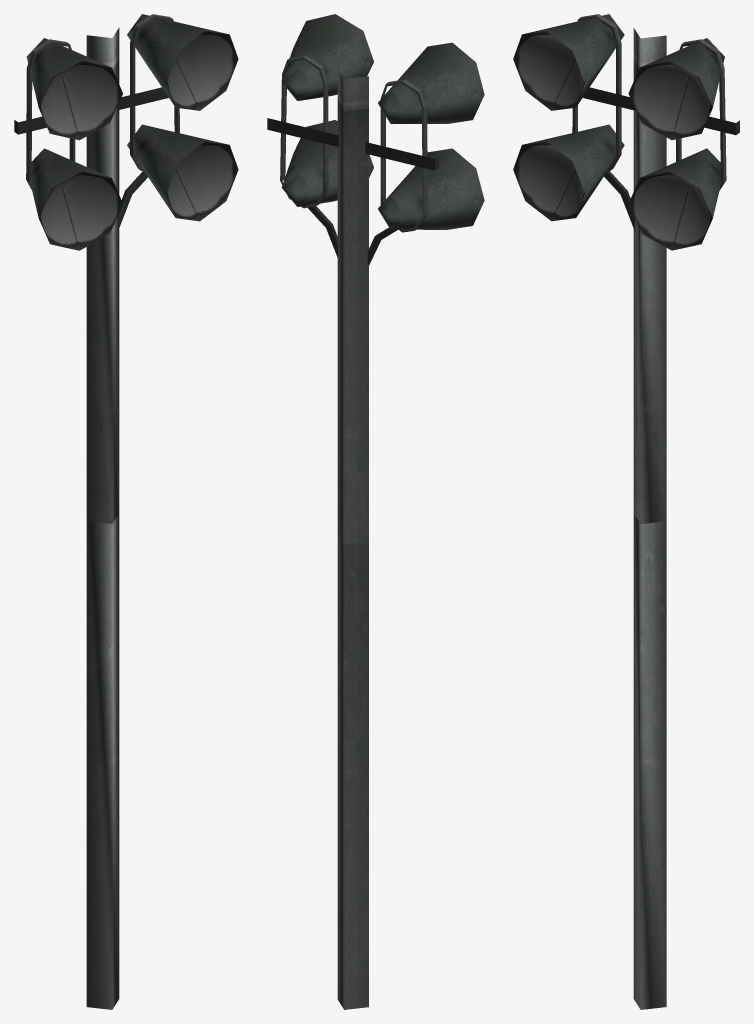
The model's file is Prop_Dj02_lod1.glb.
3 renders of one model, left to right at view 1: azimuth 30°, elevation 25°; view 2: azimuth 150°, elevation 25°; view 3: azimuth 330°, elevation 25°, orthographic. The views are drawn at different scales.
Visible parts, largest first — view 1: pvp_legionwar_dj02_lod1; view 2: pvp_legionwar_dj02_lod1; view 3: pvp_legionwar_dj02_lod1.
Boxes of the visible parts, x1,y1,x2,y2 form: pvp_legionwar_dj02_lod1: (14,14,238,1009); pvp_legionwar_dj02_lod1: (267,14,484,1009); pvp_legionwar_dj02_lod1: (513,14,739,1009).
Size of the model in its own units: 1.86 by 8.78 by 0.9141.
1 material, 1 textured.
